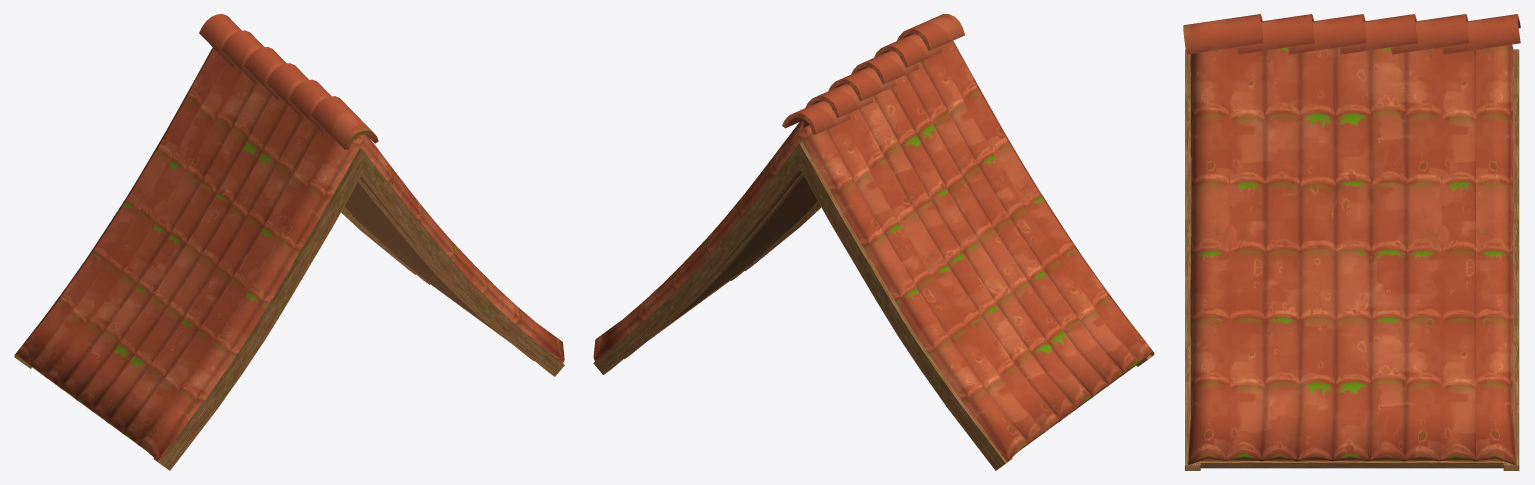
The model's file is Roof_RoundTiles_6x4.glb.
3 renders of one model, left to right at view 1: azimuth 30°, elevation 25°; view 2: azimuth 150°, elevation 25°; view 3: azimuth 270°, elevation 25°, orthographic. The views are drawn at different scales.
Visible parts, largest first — view 1: Roof_RoundTiles_6x4; view 2: Roof_RoundTiles_6x4; view 3: Roof_RoundTiles_6x4.
Part boxes in pixels (left/top/right/bottom): Roof_RoundTiles_6x4: left=14, top=14, right=564, bottom=470; Roof_RoundTiles_6x4: left=593, top=14, right=1154, bottom=470; Roof_RoundTiles_6x4: left=1183, top=14, right=1520, bottom=470.
Size of the model in its own units: 8.25 by 5.67 by 4.99.
Materials: 2 (2 with a texture image).
